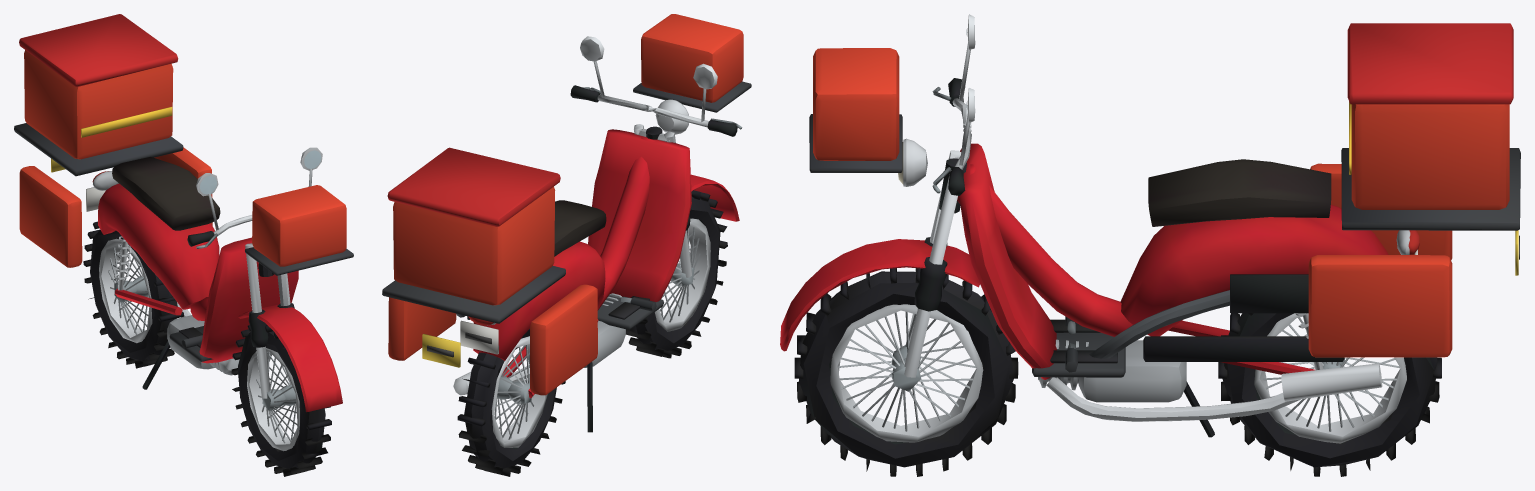
Rendered from veh-postie.glb.
The picture shows the model from 3 angles, left to right: view 1: azimuth 30°, elevation 25°; view 2: azimuth 150°, elevation 25°; view 3: azimuth 270°, elevation 25°; orthographic projection. The views are drawn at different scales.
Parts seen in each view (by area): view 1: body, wheel0, wheel1; view 2: body, wheel1, wheel0; view 3: body, wheel0, wheel1.
Part boxes in pixels (<box>): body: <box>14,14,353,412</box>; wheel0: <box>231,325,331,476</box>; wheel1: <box>83,221,183,368</box>; body: <box>382,14,751,432</box>; wheel1: <box>457,329,565,476</box>; wheel0: <box>626,190,727,358</box>; body: <box>780,14,1520,437</box>; wheel0: <box>794,268,1018,476</box>; wheel1: <box>1218,313,1441,476</box>.
Bounding box in the file's own units: 0.69 × 1.28 × 2.06.
